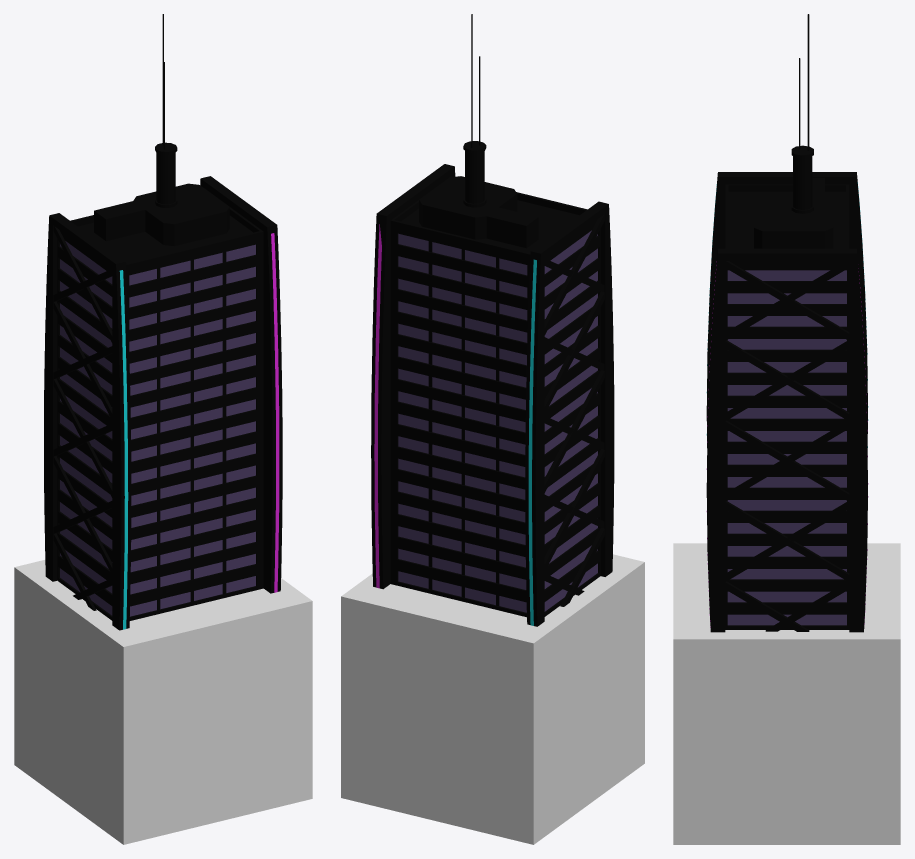
Rendered from NeonBuilding.gltf.
3 renders of one model, left to right at view 1: azimuth 30°, elevation 25°; view 2: azimuth 150°, elevation 25°; view 3: azimuth 270°, elevation 25°, orthographic. The views are drawn at different scales.
Visible parts, largest first — view 1: Neon_Building02, COL; view 2: Neon_Building02, COL; view 3: Neon_Building02, COL.
Boxes of the visible parts, x1,y1,x2,y2 form: Neon_Building02: (44, 14, 282, 630); COL: (14, 560, 312, 844); Neon_Building02: (371, 14, 614, 626); COL: (341, 554, 644, 844); Neon_Building02: (706, 14, 868, 632); COL: (673, 543, 900, 844).
Size of the model in its own units: 25 by 95.72 by 25.
Materials: 1 (1 with a texture image).
